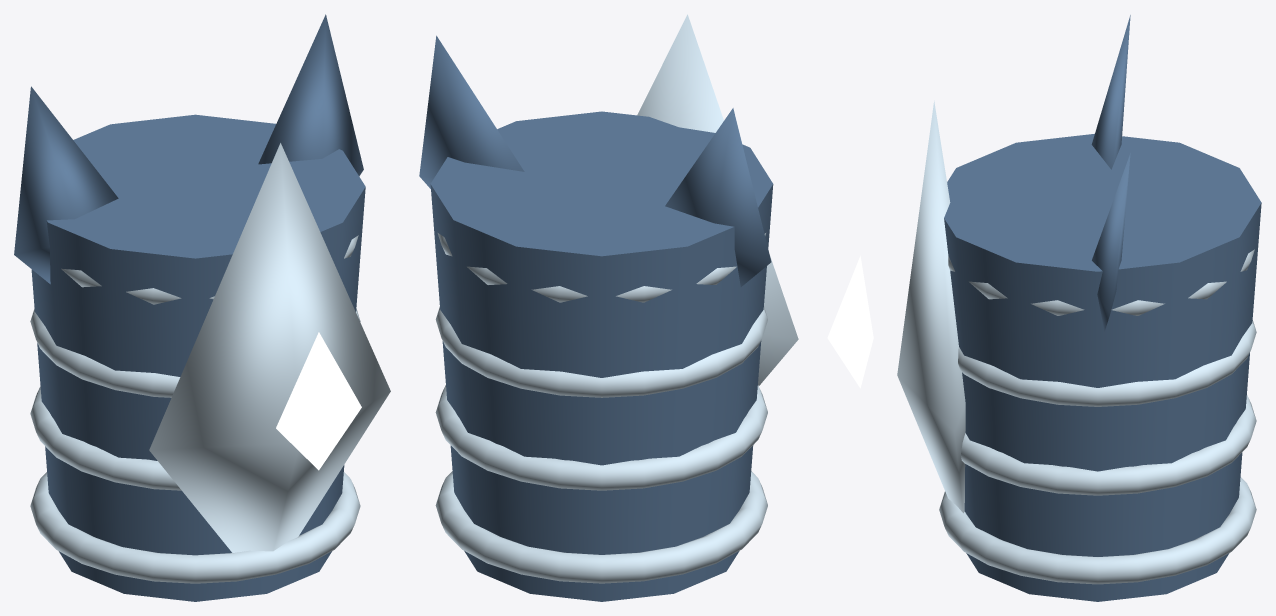
File: boss_winter_court_gloves_2.glb
3 renders of one model, left to right at view 1: azimuth 30°, elevation 25°; view 2: azimuth 150°, elevation 25°; view 3: azimuth 270°, elevation 25°, orthographic. The views are drawn at different scales.
Visible parts, largest first — view 1: Boss_winter_court_0, Boss_winter_court_1, Boss_winter_court_2; view 2: Boss_winter_court_0, Boss_winter_court_1; view 3: Boss_winter_court_0, Boss_winter_court_1, Boss_winter_court_2.
Part boxes in pixels (bbox=[...]): Boss_winter_court_0: bbox=[14, 14, 365, 601]; Boss_winter_court_1: bbox=[30, 143, 390, 583]; Boss_winter_court_2: bbox=[276, 332, 361, 470]; Boss_winter_court_0: bbox=[419, 35, 773, 601]; Boss_winter_court_1: bbox=[435, 14, 798, 583]; Boss_winter_court_0: bbox=[944, 15, 1261, 601]; Boss_winter_court_1: bbox=[897, 100, 1256, 584]; Boss_winter_court_2: bbox=[827, 255, 873, 388].
Size of the model in its own units: 0.2373 by 0.3105 by 0.2653.
